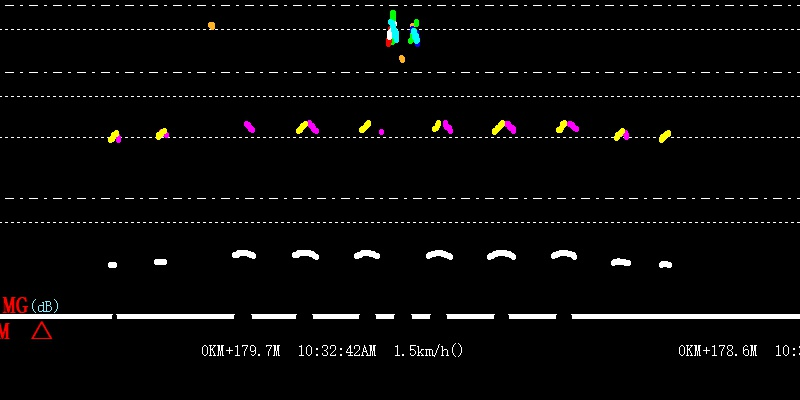J: (383, 2, 425, 51)
face_up: (204, 19, 217, 37)
y_p: (223, 109, 584, 271)
